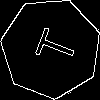T: (26, 23, 79, 68)
